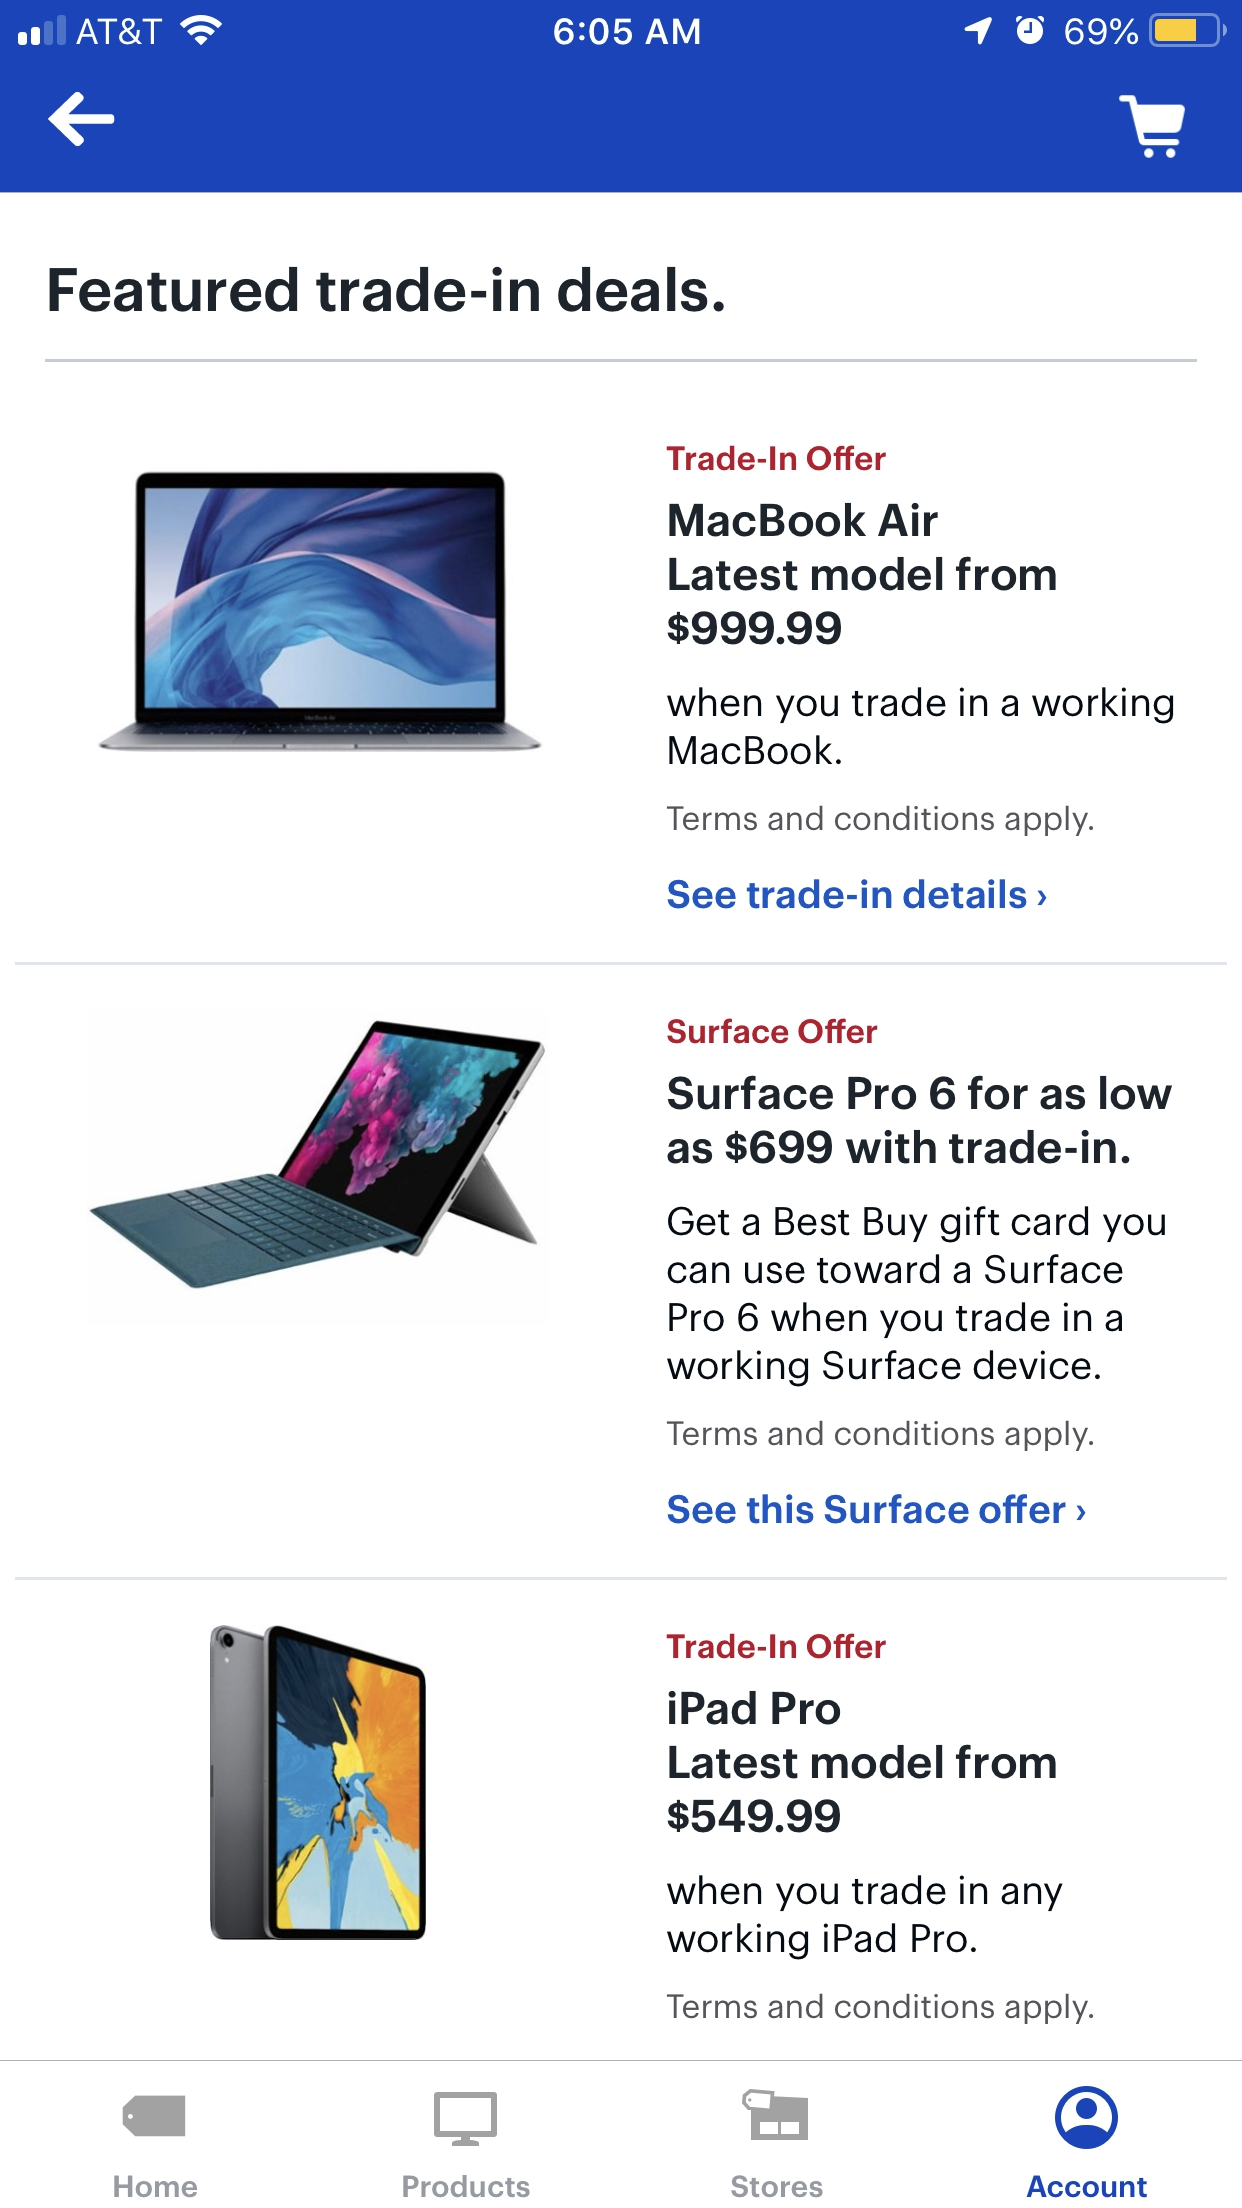Icon: (1119, 96, 1186, 161), (1055, 2087, 1119, 2150), (49, 93, 115, 149), (123, 2094, 187, 2137), (1077, 1504, 1086, 1521), (1037, 890, 1046, 905)
Image: (99, 472, 543, 754), (89, 1019, 547, 1291), (209, 1624, 428, 1941), (434, 2093, 497, 2147), (742, 2090, 808, 2141)
Text: (667, 1206, 1166, 1388), (667, 502, 1057, 646), (667, 1689, 1057, 1833), (667, 1077, 1174, 1166), (666, 687, 1174, 766), (667, 1874, 1065, 1961), (49, 267, 725, 314), (667, 805, 1093, 839), (667, 1419, 1093, 1451), (667, 1993, 1093, 2025), (667, 1494, 1068, 1526), (667, 878, 1027, 910), (666, 444, 887, 472), (666, 1632, 887, 1659), (667, 1018, 880, 1045), (403, 2175, 531, 2197), (1027, 2175, 1148, 2197), (731, 2175, 823, 2197), (115, 2175, 199, 2197)
UpperTaskBar: (2, 2, 1242, 49)
